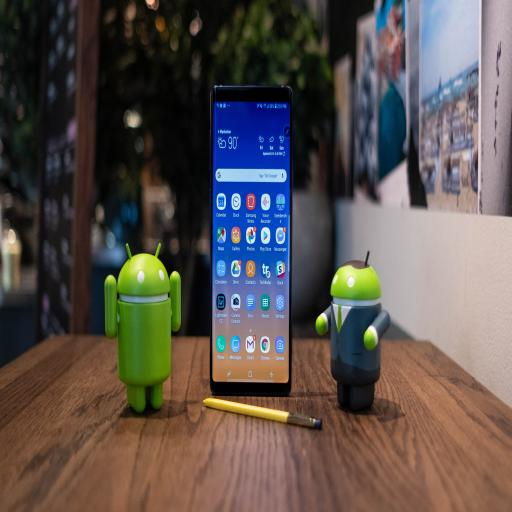phone: (212, 81, 292, 398)
